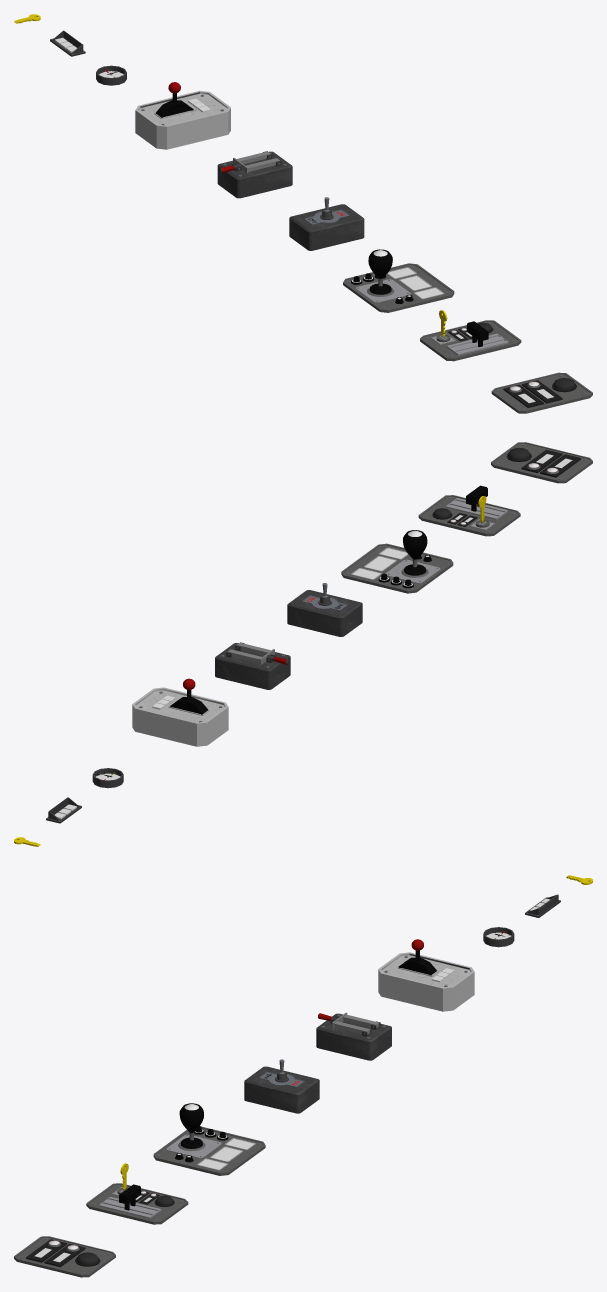
The model's file is Props.fbx.
3 renders of one model, top to bottom at view 1: azimuth 30°, elevation 25°; view 2: azimuth 150°, elevation 25°; view 3: azimuth 330°, elevation 25°, orthographic.
Visible parts, largest first — view 1: Panel_Palanca_Bola, Interruptor_True_False_Base, Palanca_Electrica_Base, Panel_Control_Manual, Panel_Comunicacion, Panel_Control_Fader, Indicadores_Estado, Palanca_Electrica, Control_Fader_Base, Joystick_Palanca, Palanca_Bola, Medidor_Aguja (+1 smaller); view 2: Panel_Palanca_Bola, Interruptor_True_False_Base, Palanca_Electrica_Base, Panel_Control_Manual, Panel_Comunicacion, Panel_Control_Fader, Indicadores_Estado, Palanca_Electrica, Joystick_Palanca, Control_Fader_Base, Palanca_Bola, Medidor_Aguja; view 3: Panel_Palanca_Bola, Interruptor_True_False_Base, Palanca_Electrica_Base, Panel_Control_Manual, Panel_Comunicacion, Panel_Control_Fader, Indicadores_Estado, Palanca_Electrica, Control_Fader_Base, Joystick_Palanca, Palanca_Bola, Medidor_Aguja (+1 smaller).
Boxes of the visible parts, x1,y1,x2,y2 form: Panel_Palanca_Bola: (135,90,230,149); Interruptor_True_False_Base: (289,204,364,250); Palanca_Electrica_Base: (217,151,292,198); Panel_Control_Manual: (343,263,454,312); Panel_Comunicacion: (491,372,592,413); Panel_Control_Fader: (420,320,521,361); Indicadores_Estado: (387,267,444,299); Palanca_Electrica: (219,151,279,173); Control_Fader_Base: (446,333,508,355); Joystick_Palanca: (368,249,392,286); Palanca_Bola: (155,82,193,117); Medidor_Aguja: (96,65,126,85); Panel_Palanca_Bola: (132,687,228,746); Interruptor_True_False_Base: (287,590,362,636); Palanca_Electrica_Base: (215,643,290,689); Panel_Control_Manual: (341,543,453,593); Panel_Comunicacion: (491,442,592,483); Panel_Control_Fader: (418,495,520,536); Indicadores_Estado: (351,547,408,579); Palanca_Electrica: (228,642,288,664); Joystick_Palanca: (403,530,427,567); Control_Fader_Base: (445,498,507,519); Palanca_Bola: (170,678,208,714); Medidor_Aguja: (92,768,123,788); Panel_Palanca_Bola: (378,952,474,1011); Interruptor_True_False_Base: (244,1066,319,1113); Palanca_Electrica_Base: (316,1013,391,1060); Panel_Control_Manual: (153,1126,265,1175); Panel_Comunicacion: (14,1236,115,1277); Panel_Control_Fader: (86,1183,188,1224); Indicadores_Estado: (197,1138,255,1170); Palanca_Electrica: (318,1012,379,1034); Control_Fader_Base: (99,1196,161,1218); Joystick_Palanca: (179,1103,203,1140); Palanca_Bola: (398,939,436,975); Medidor_Aguja: (483,927,514,947).
Size of the model in its own units: 3.7 by 0.3 by 0.1992.
